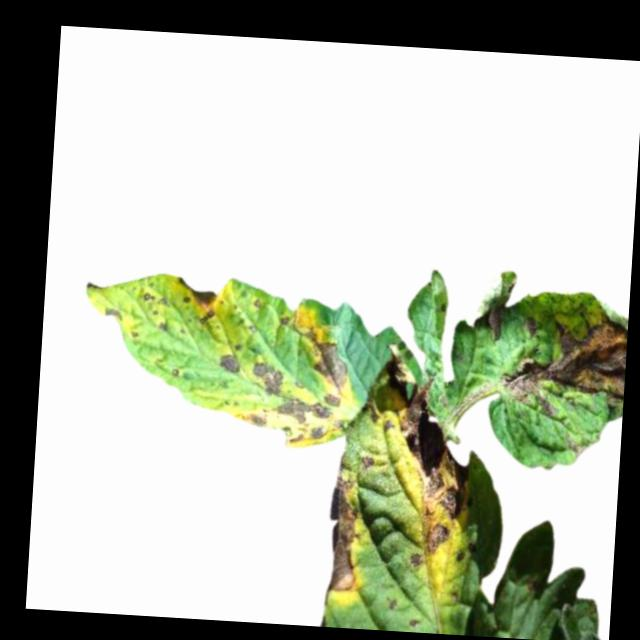Early_blight: (377, 345, 473, 520), (497, 306, 627, 421), (241, 388, 352, 451), (324, 475, 364, 592), (304, 327, 355, 395), (173, 276, 221, 324), (251, 358, 285, 396), (422, 521, 454, 557), (486, 294, 505, 343), (141, 290, 169, 317), (217, 351, 242, 373), (362, 395, 380, 423), (565, 433, 585, 455), (103, 303, 124, 321), (357, 452, 376, 470), (277, 309, 294, 328), (408, 551, 424, 568), (523, 315, 539, 332), (454, 548, 468, 560), (154, 320, 167, 332)
